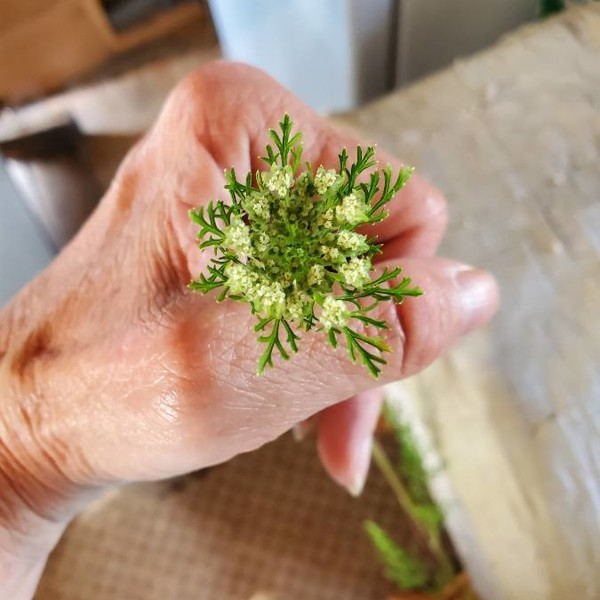obstacle: (166, 109, 426, 367)
